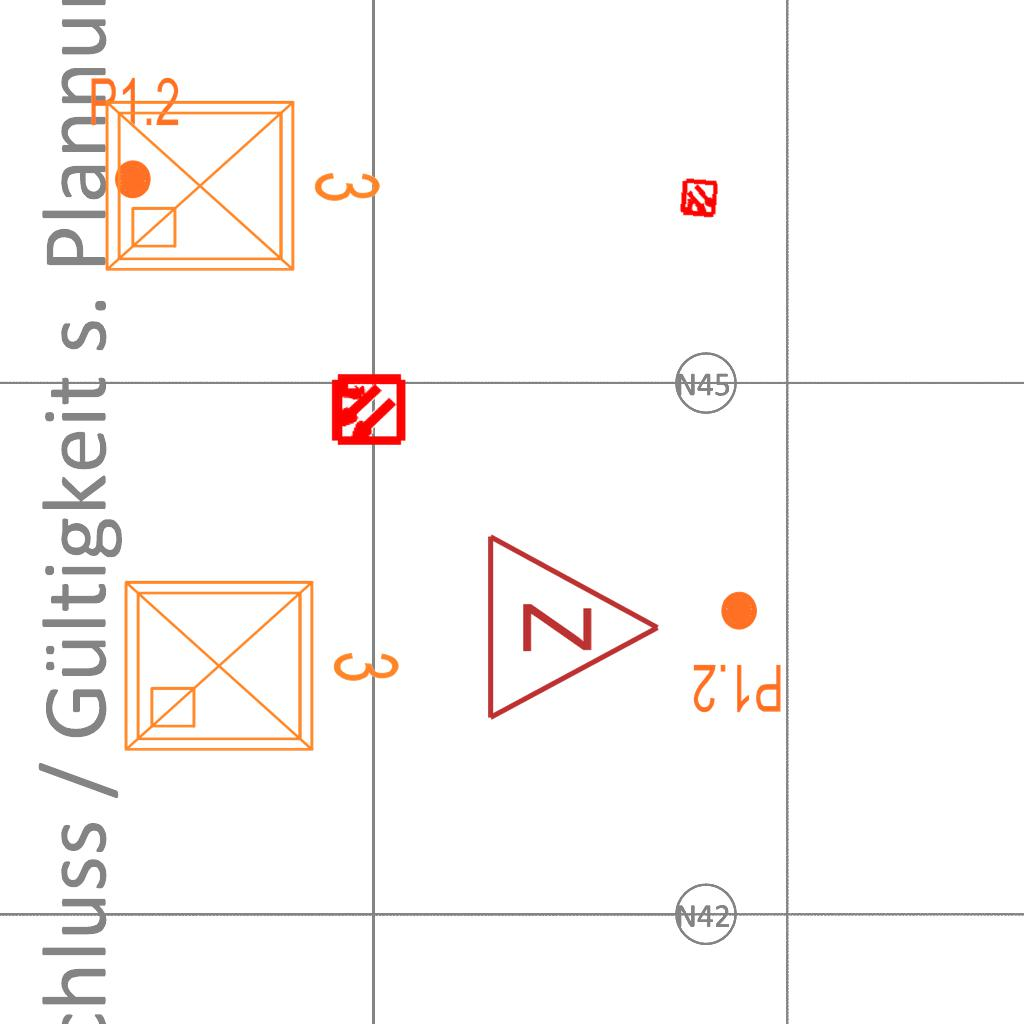Downlight_LED_Einbauleuchten_Flur: (88, 74, 181, 202), (691, 588, 784, 716)
Einbaudownlights_LED_Konferenzraeume: (110, 558, 410, 766), (91, 78, 391, 286)
OT_Multisensormelder_(Kombination_RMO_WMD): (310, 353, 423, 466), (668, 168, 730, 230)
Zimmersignalleuchte: (473, 527, 673, 723)
